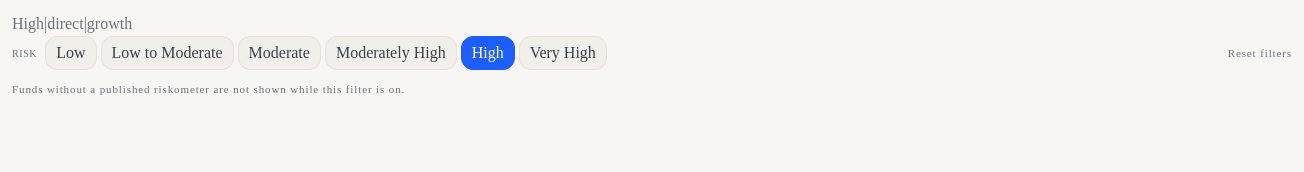
Batch H Quick Discovery filter contracts › Reset filters clears risk, plan, and option state
The width and height of the screenshot is (1304, 172).
Click the button "Reset filters".
click(1260, 53)  # box [1228,46,1292,60]
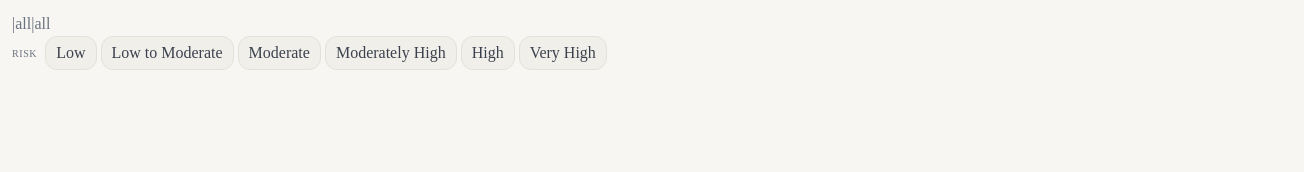
Now the text with test id "filter-state" reads "|all|all", box [12,15,15,32]
